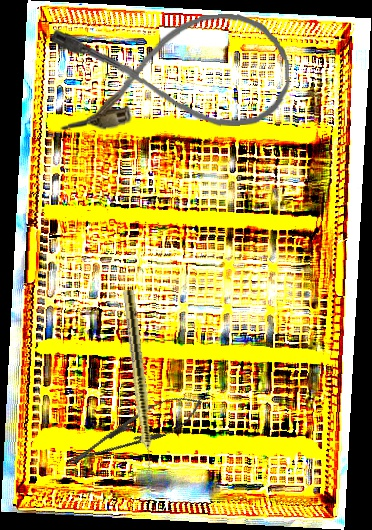Cannula: (51, 10, 292, 136)
Handpiece: (119, 289, 159, 480)
Needle Holder: (61, 384, 209, 478)
